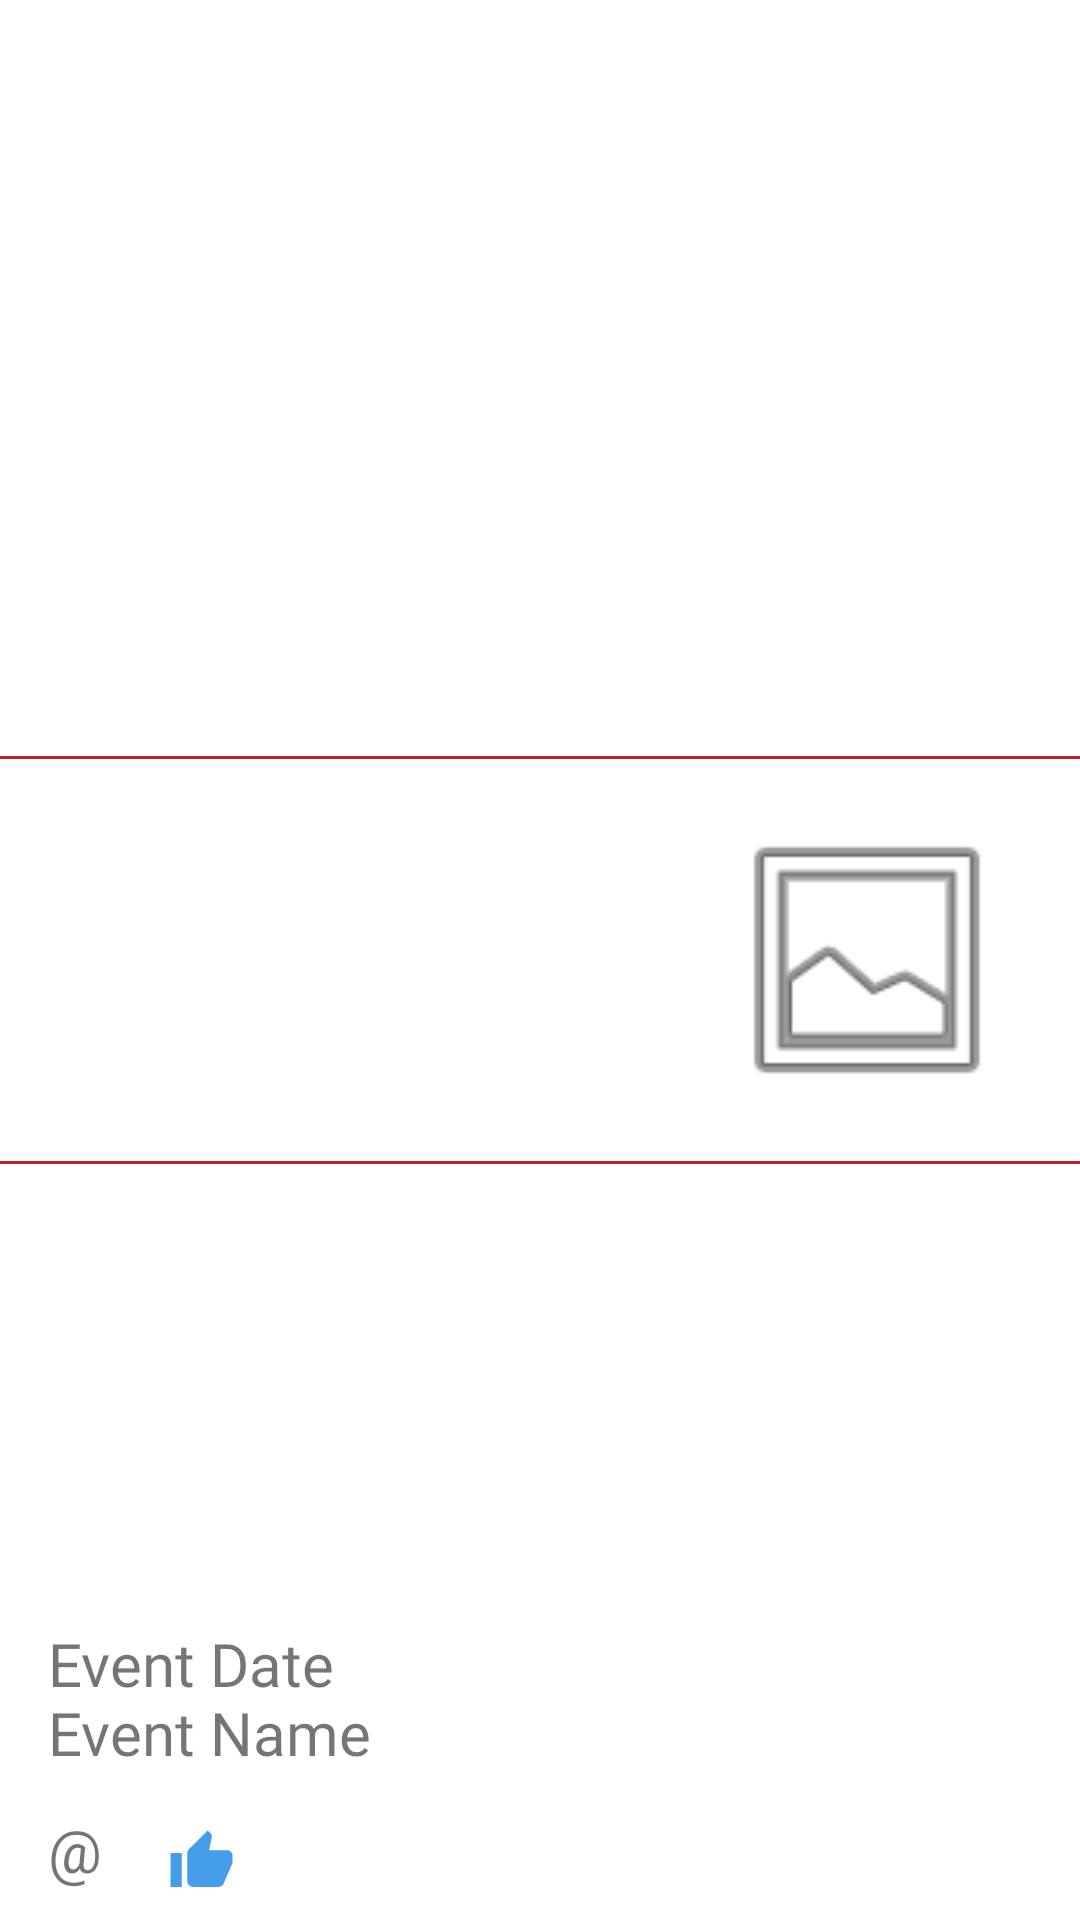

Named icons in this screenshot (1080 × 1920) and their centers, point (x, y):
gallery: point (867, 960)
thumbsup: point (201, 1858)
